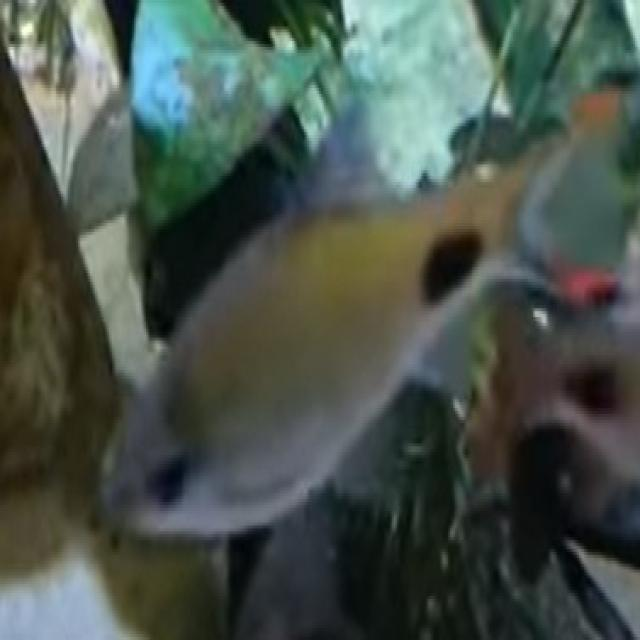Black-Spotted-Barb: (63, 82, 592, 516)
